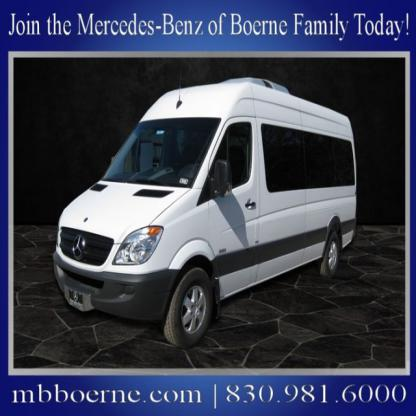Vehicle: (52, 78, 357, 349)
